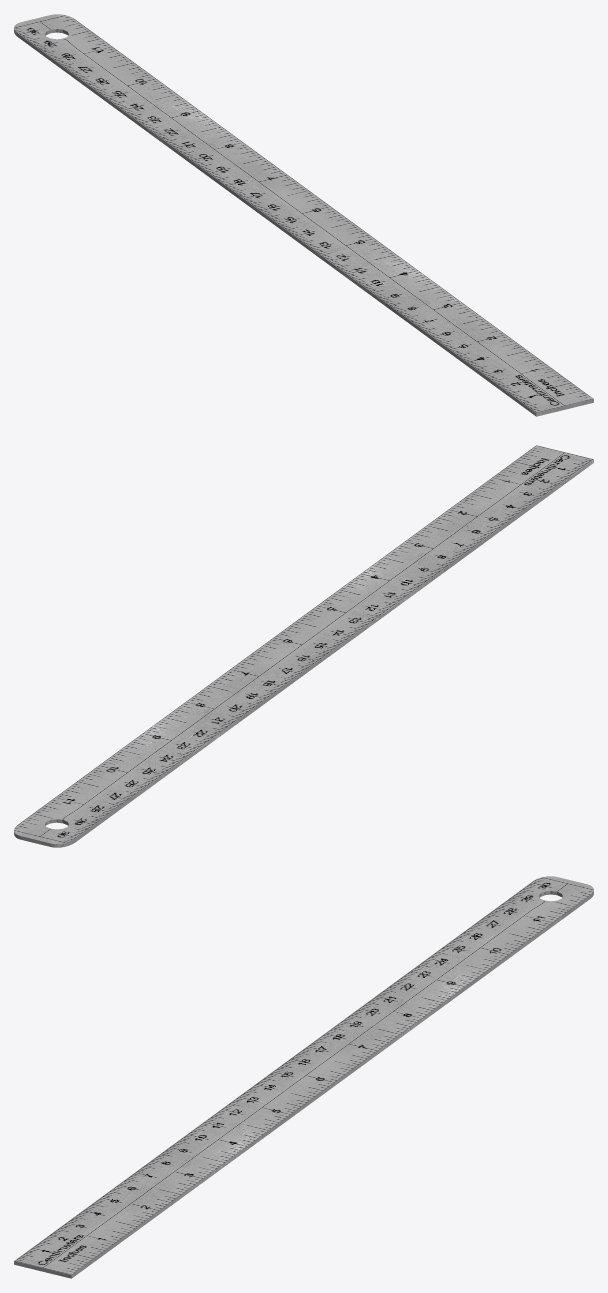
File: Ruler02_2.FBX
3 views of the same model, one above another, from view 1: azimuth 30°, elevation 25°; view 2: azimuth 150°, elevation 25°; view 3: azimuth 330°, elevation 25° (orthographic).
Parts seen in each view (by area): view 1: Ruler02_2; view 2: Ruler02_2; view 3: Ruler02_2.
Boxes of the visible parts, x1=… form: Ruler02_2: x1=14, y1=14, x2=593, y2=416; Ruler02_2: x1=14, y1=445, x2=593, y2=847; Ruler02_2: x1=14, y1=876, x2=593, y2=1278.
Bounding box in the file's own units: 2.02 × 0.1208 × 32.16.
